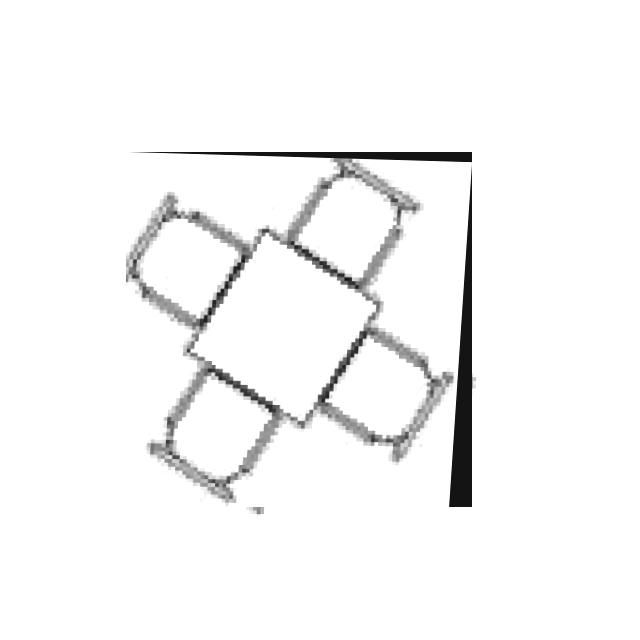table: (126, 152, 472, 507)
